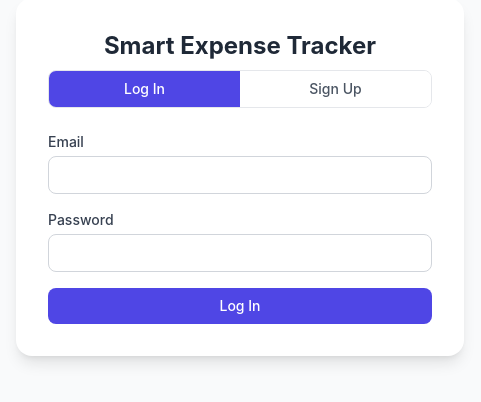
Scenario: AuthPage — Login mode › shows validation errors when email is empty on submit
The width and height of the screenshot is (481, 402).
Click the submit button. click: (240, 306)
box: left=48, top=288, right=432, bottom=324
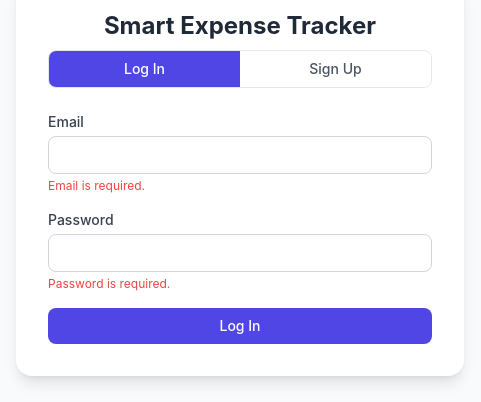
Expected: the text "Email is required." is shown, left=48, top=178, right=145, bottom=193
